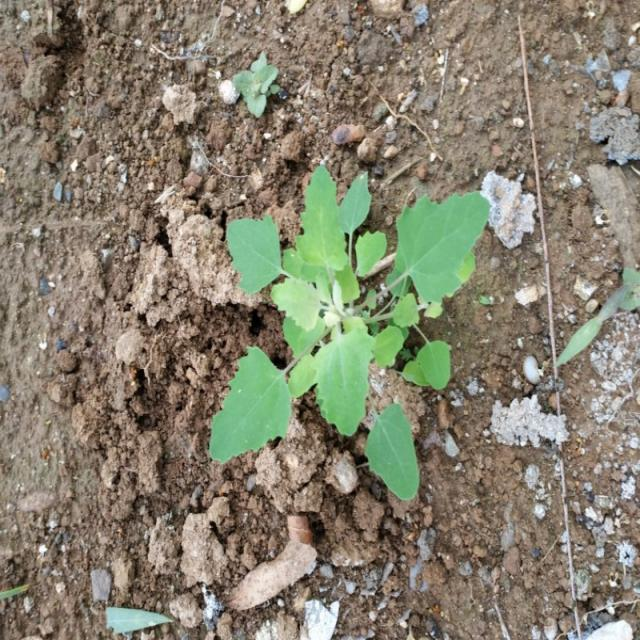ca: (208, 163, 491, 463)
